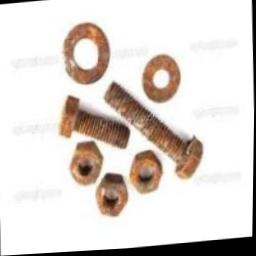Corroded-Bolt: (104, 85, 204, 182), (61, 97, 128, 151)
Corroded-Nut: (96, 175, 130, 219), (131, 154, 164, 198), (72, 144, 104, 187)
